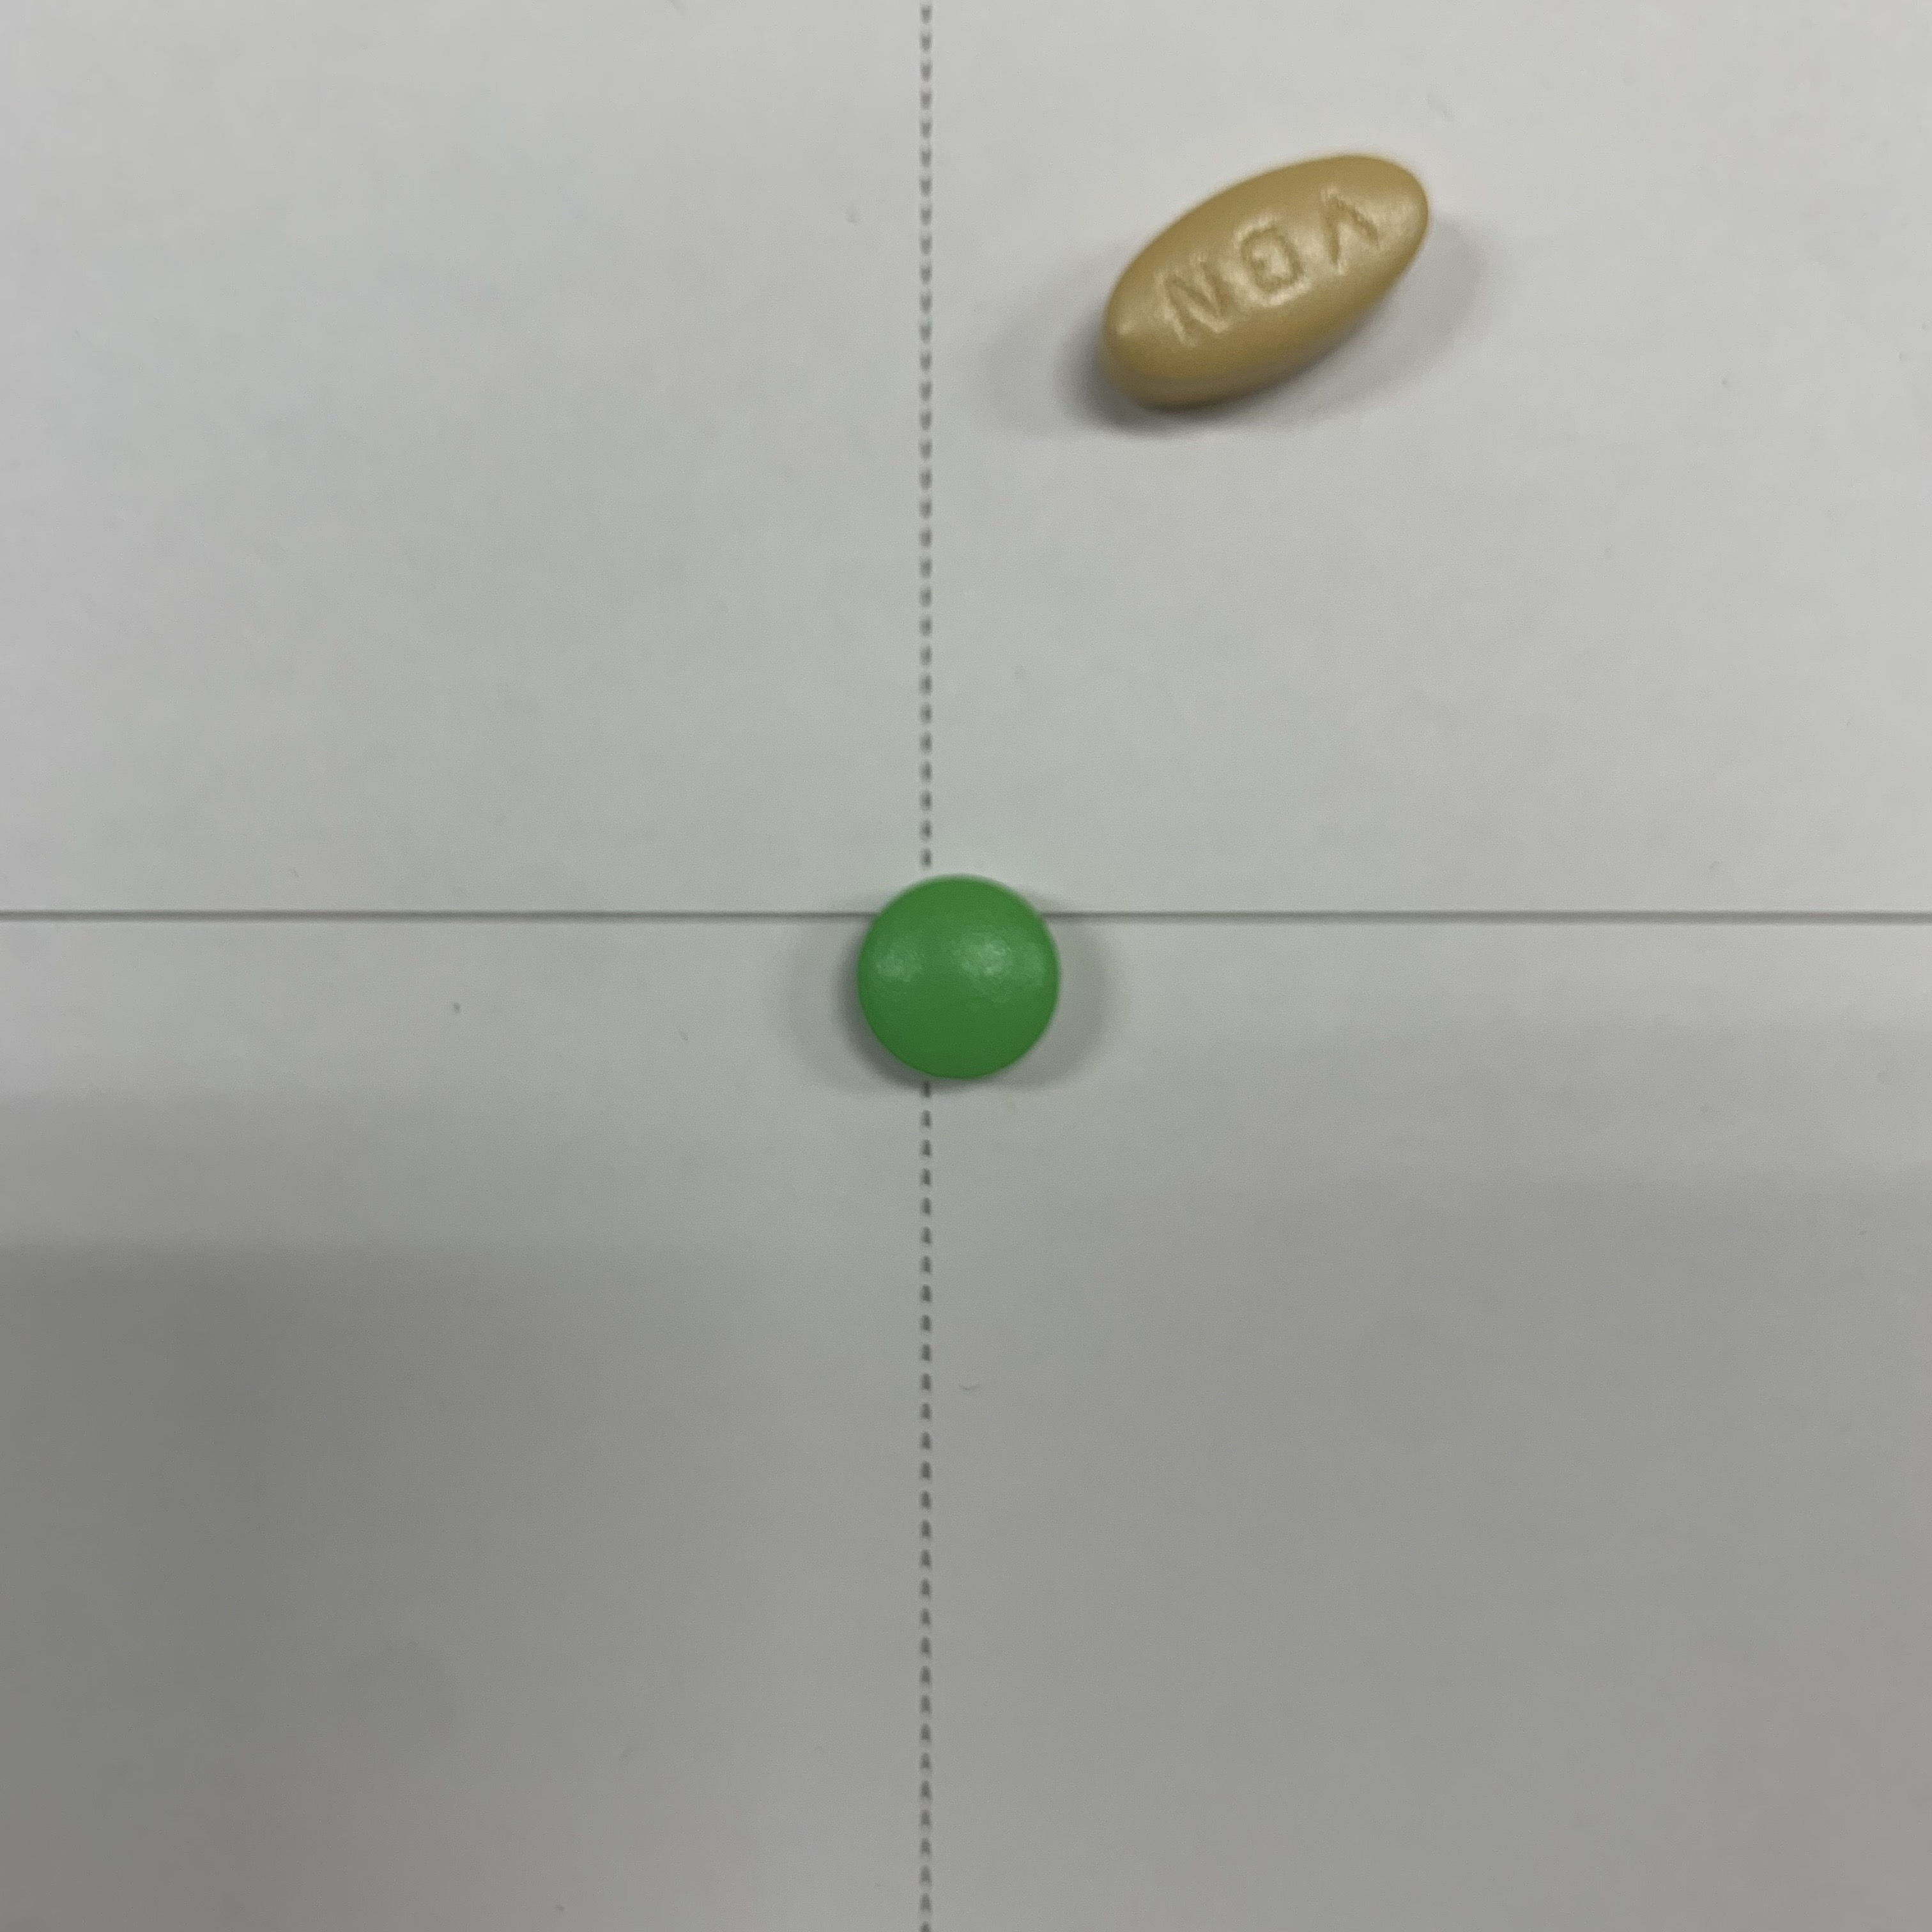cir_drug: (832, 863, 1088, 1100)
oval_drug: (1065, 136, 1456, 441)
